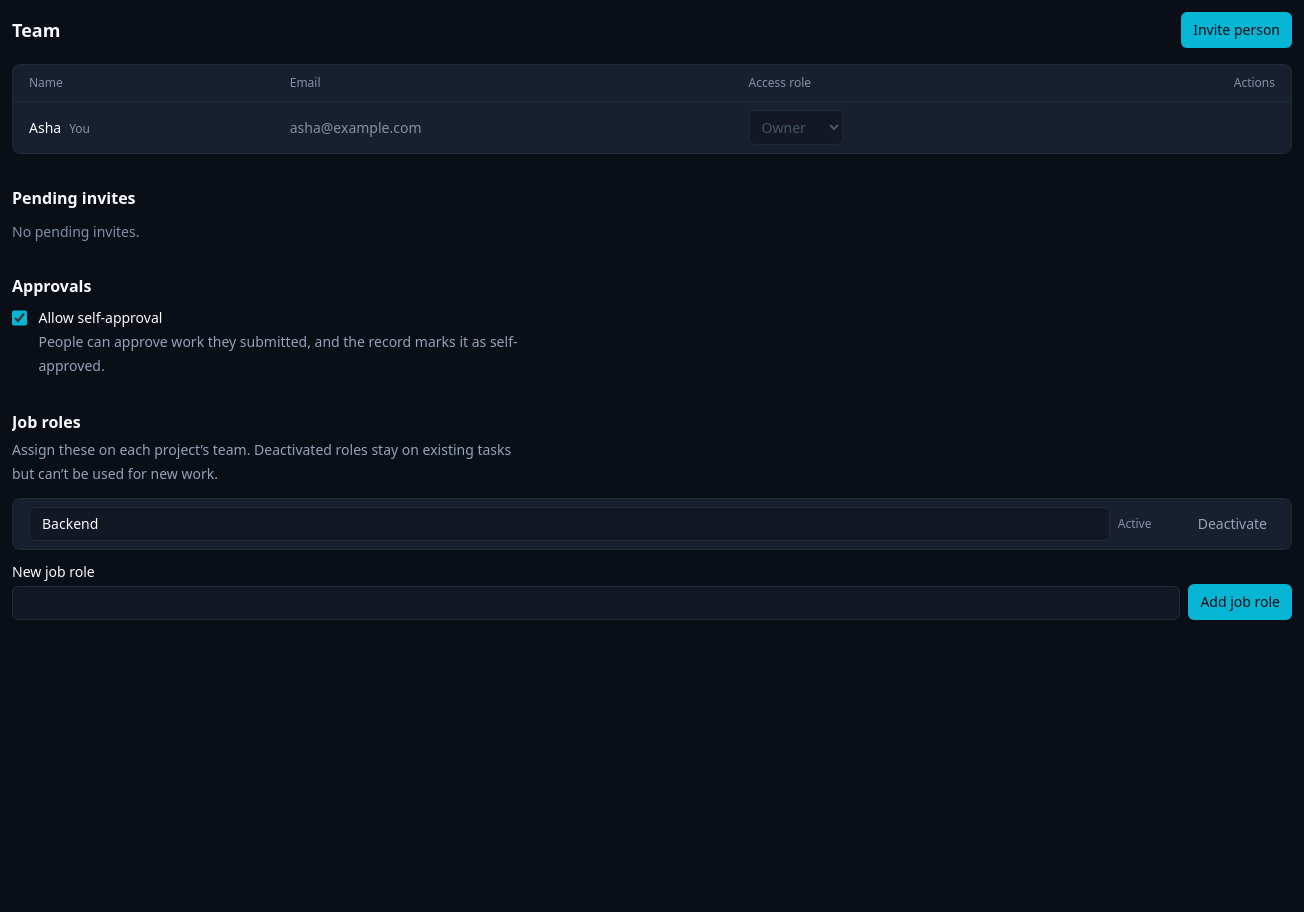
Test: TeamPage › lets an owner create, rename and deactivate job roles
Type "  Designer " into the field labelled "New job role" at coordinates (596, 603), box [12,586,1180,620]
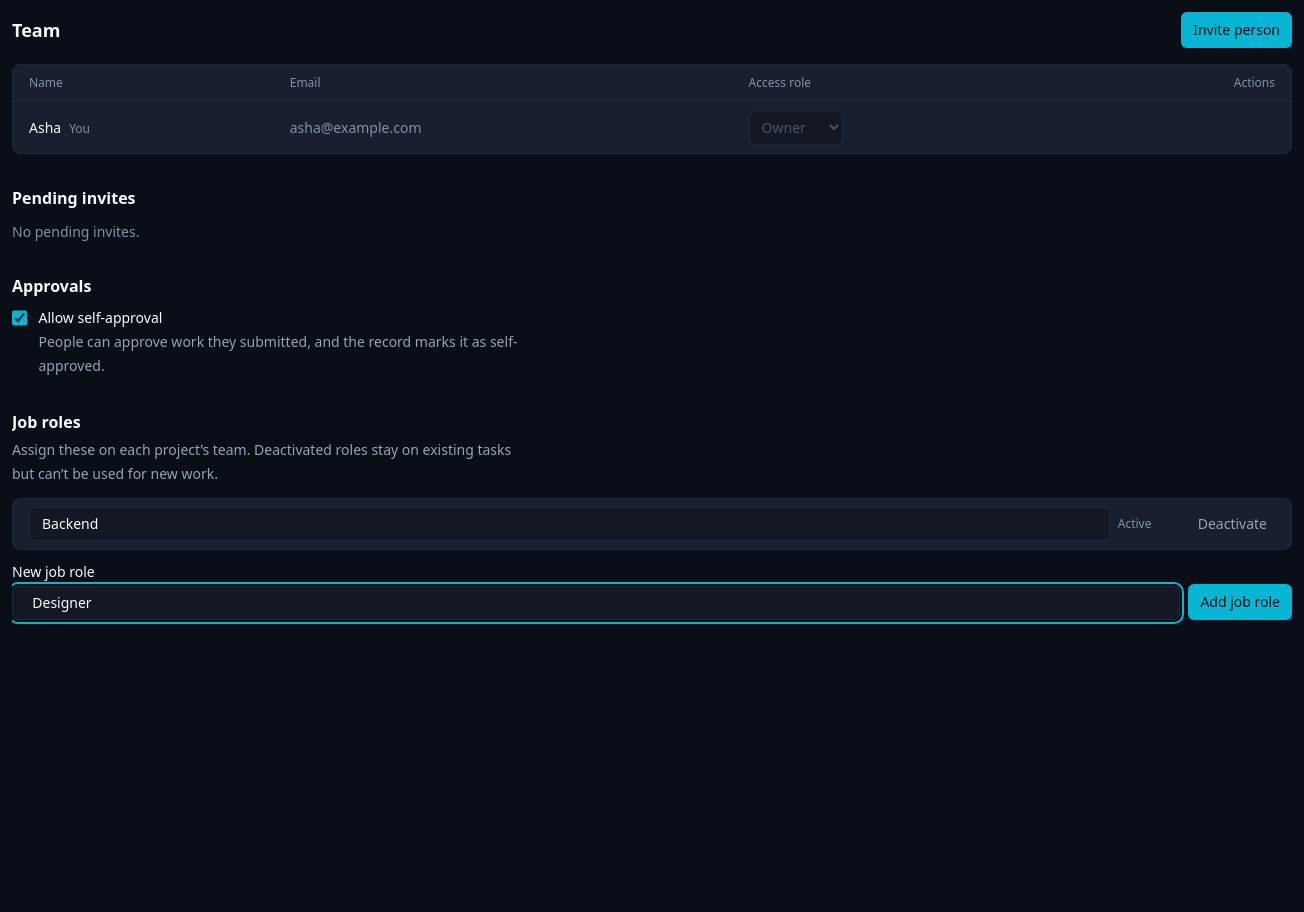
Click the button "Add job role" at coordinates (1240, 602), box [1188,584,1292,620]
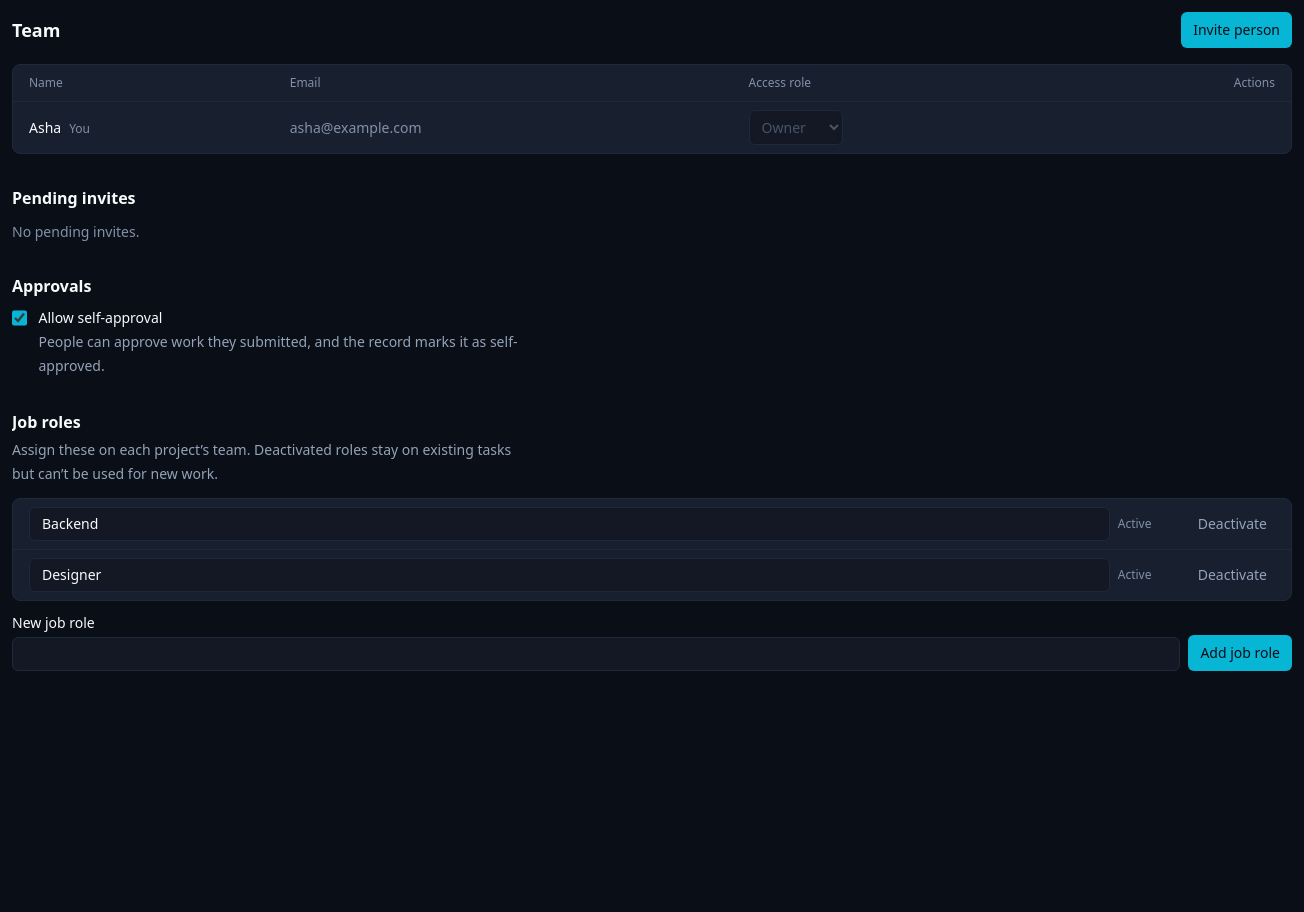
Expected: the field named "Name for Designer" holds "Designer", [29,558,1110,592]
Clear the field named "Name for Backend" at coordinates (569, 524), box [29,507,1110,541]
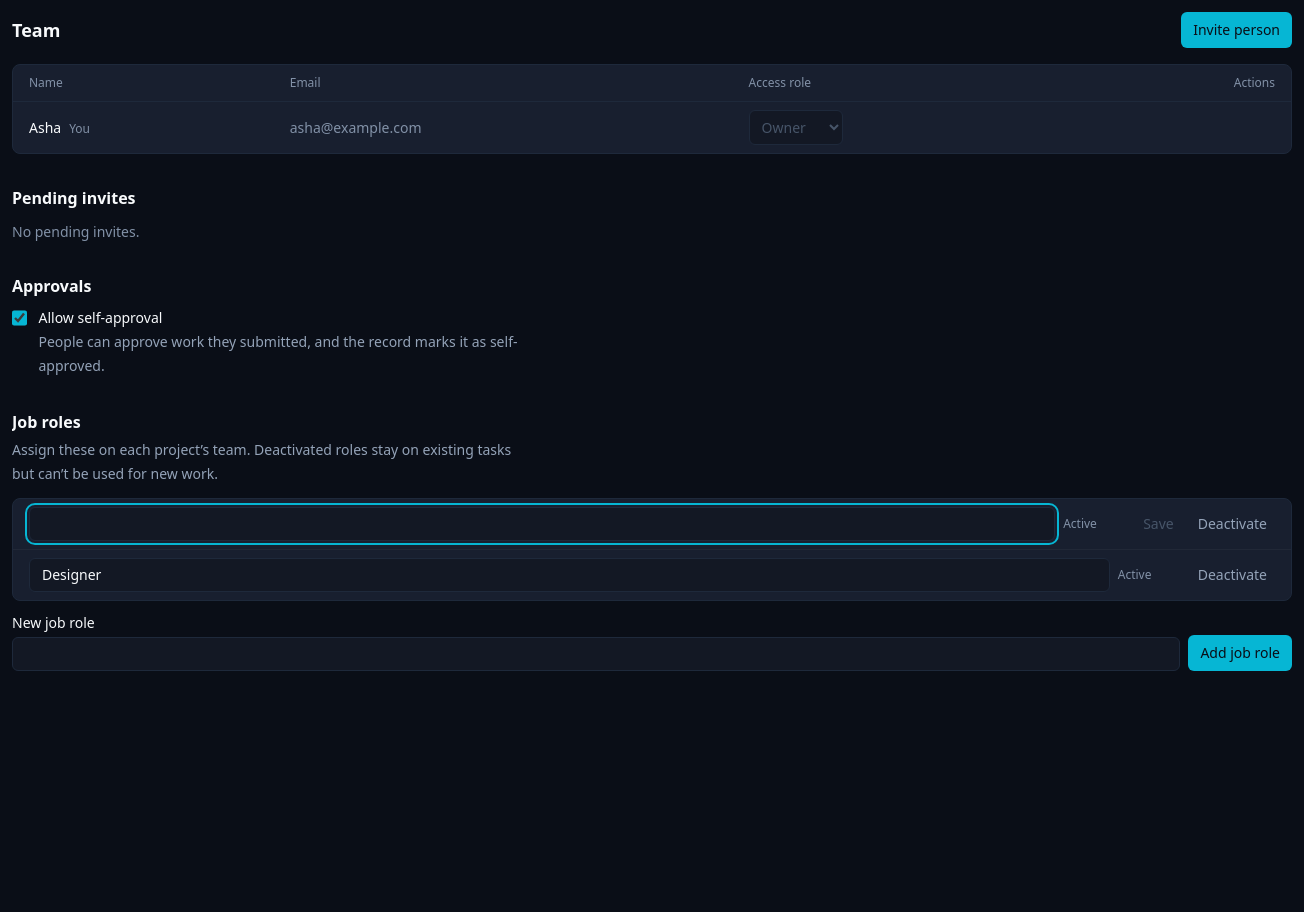
Type "Platform" into the field named "Name for Backend" at coordinates (542, 524), box [29,507,1055,541]
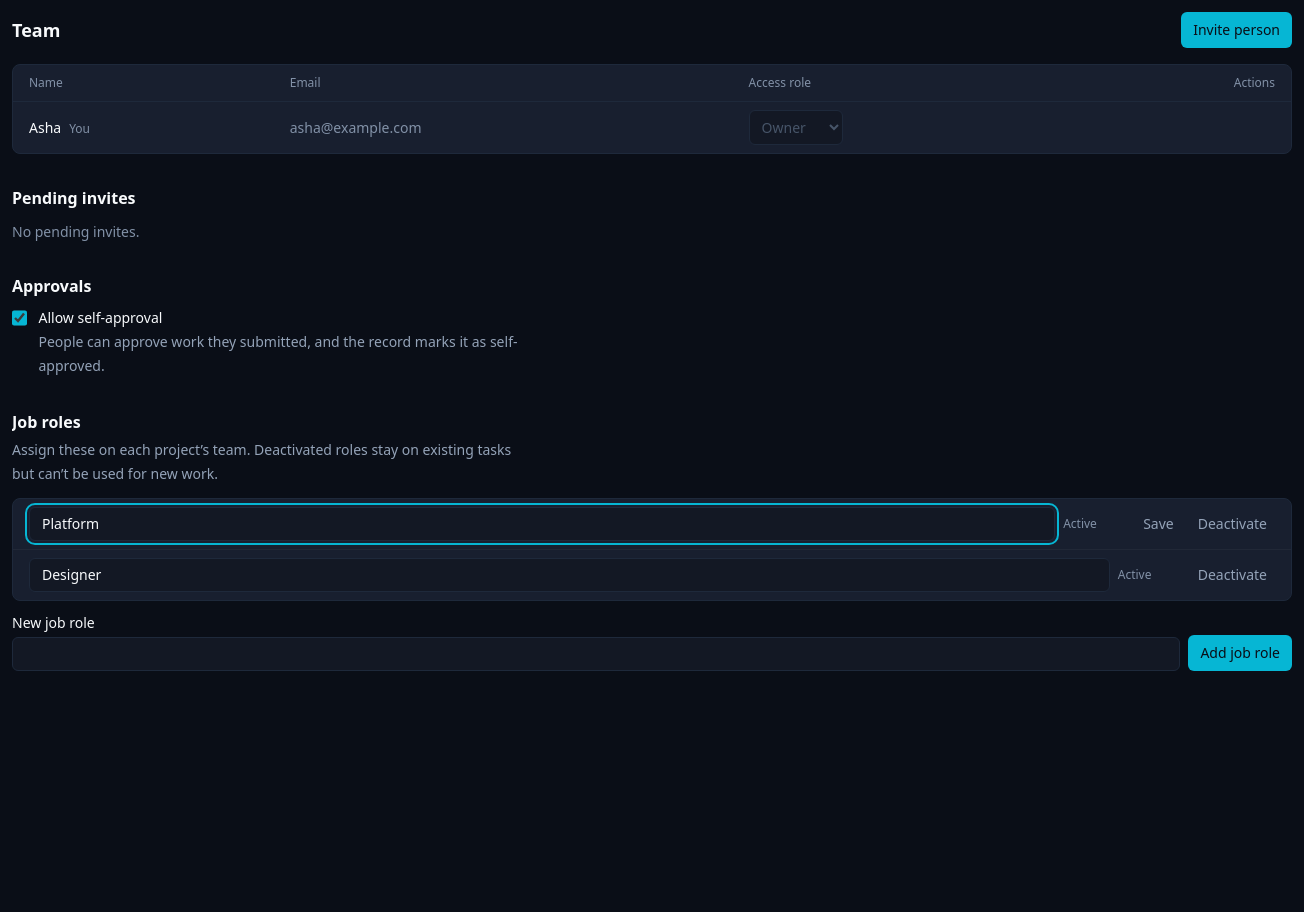
Click the button with aria-label "Save Backend" at coordinates (1158, 524), box [1135,510,1182,538]
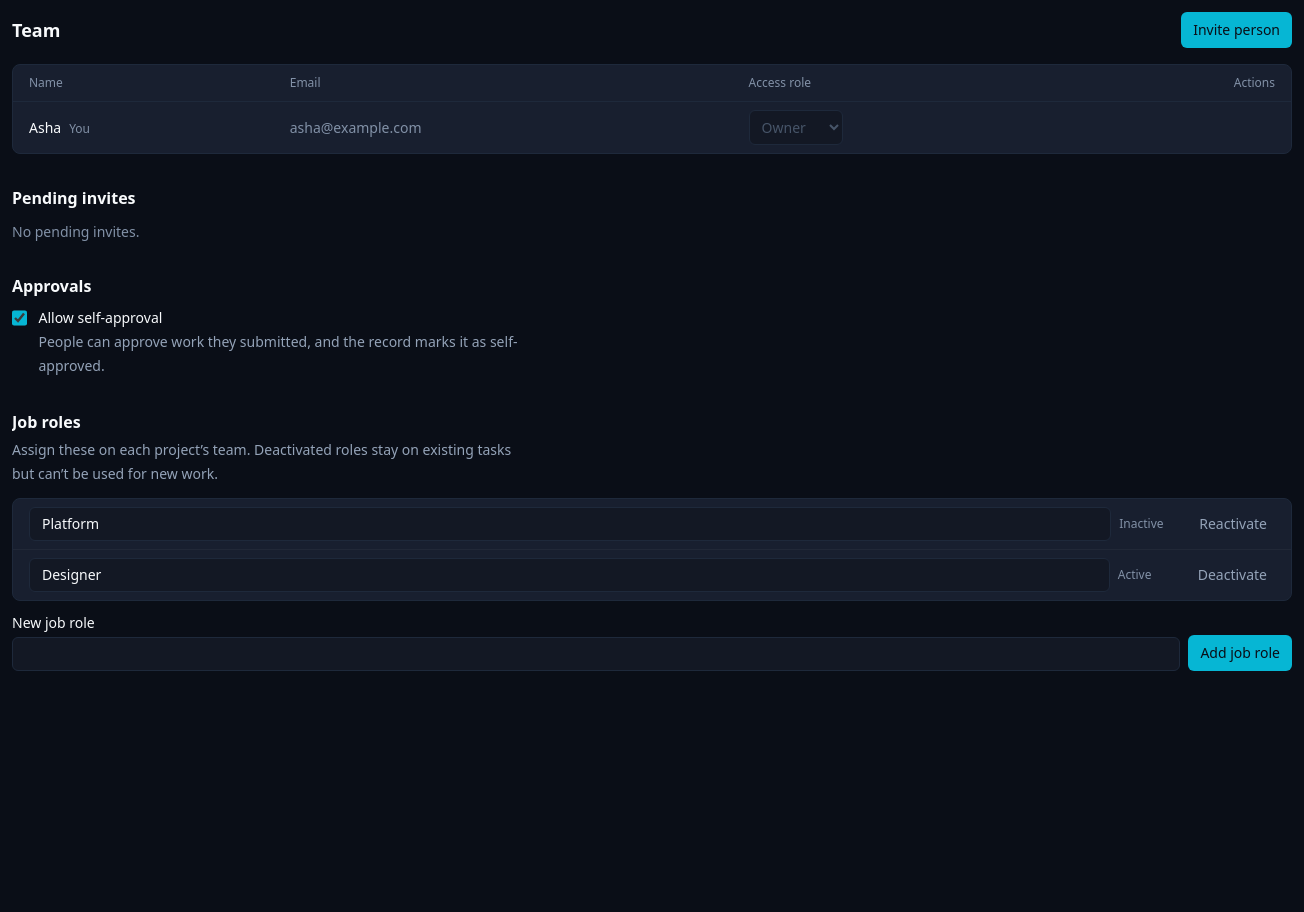
Expected: the button with aria-label "Reactivate Platform" is shown, [1191,510,1275,538]
